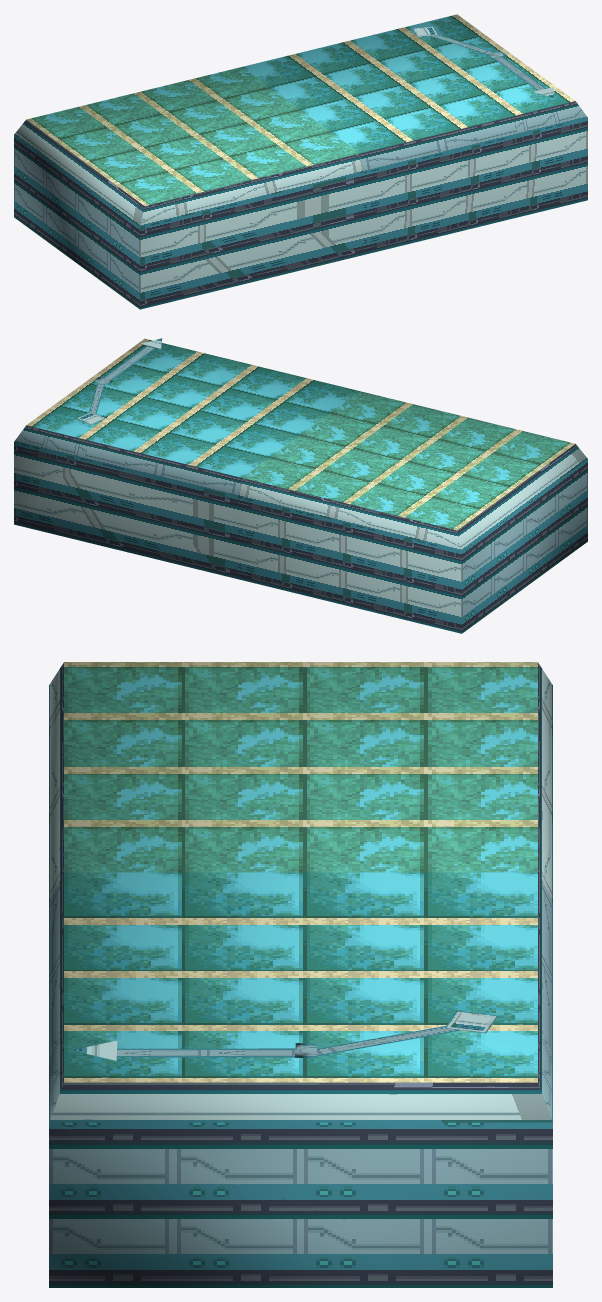
File: 3302IMIG07_06.gltf
3 views of the same model, one above another, from view 1: azimuth 30°, elevation 25°; view 2: azimuth 150°, elevation 25°; view 3: azimuth 270°, elevation 25° (orthographic). The views are drawn at different scales.
Parts seen in each view (by area): view 1: 3302IMIG07_06; view 2: 3302IMIG07_06; view 3: 3302IMIG07_06.
Part boxes in pixels (bbox=[...]): 3302IMIG07_06: bbox=[14, 14, 587, 309]; 3302IMIG07_06: bbox=[14, 338, 587, 633]; 3302IMIG07_06: bbox=[49, 662, 552, 1287].
Size of the model in its own units: 1.95 by 0.4375 by 0.9507.
Materials: 4 (4 with a texture image).
